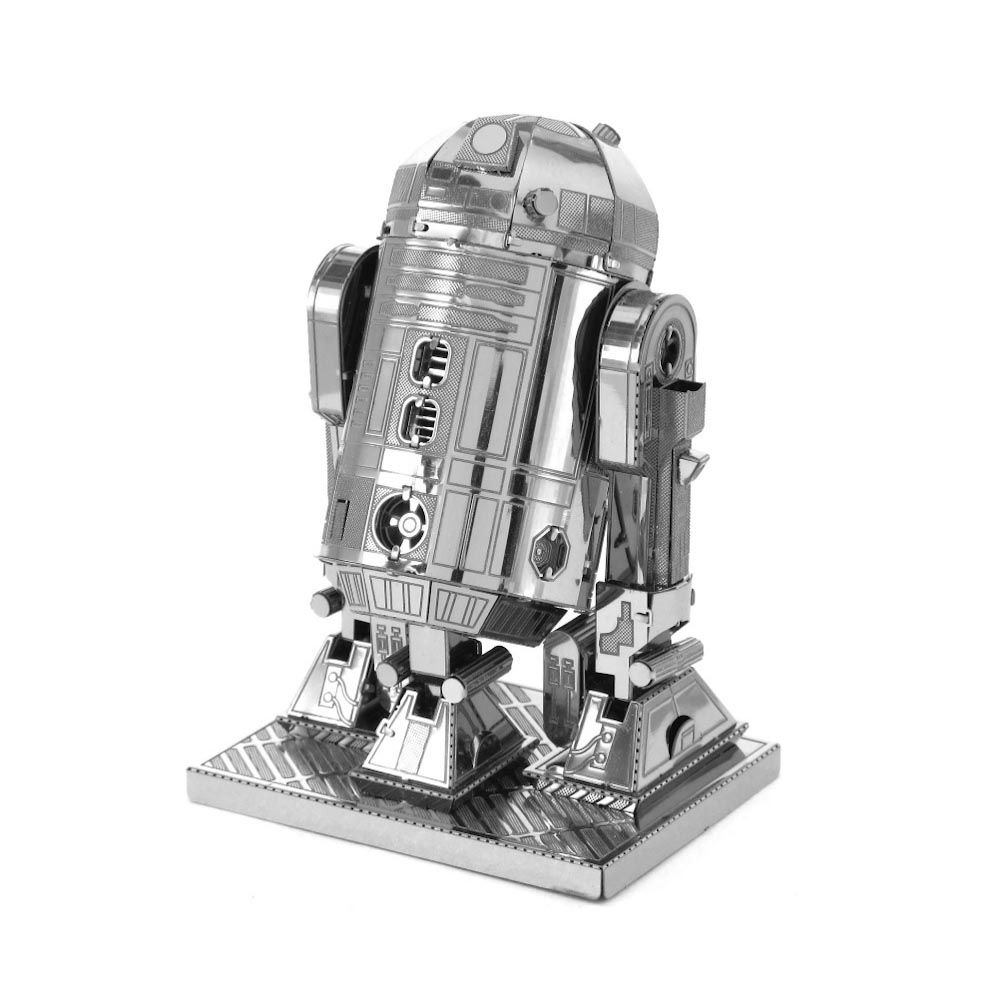r2d2: (284, 112, 754, 799)
